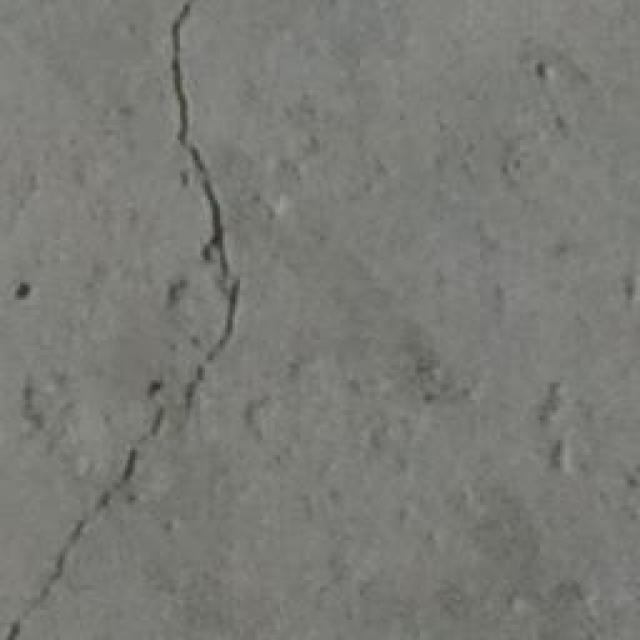Longitudinal: (6, 0, 266, 640)
